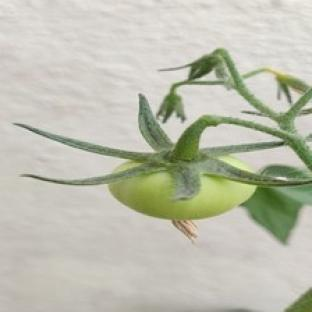Tomato: (109, 169, 256, 220)
